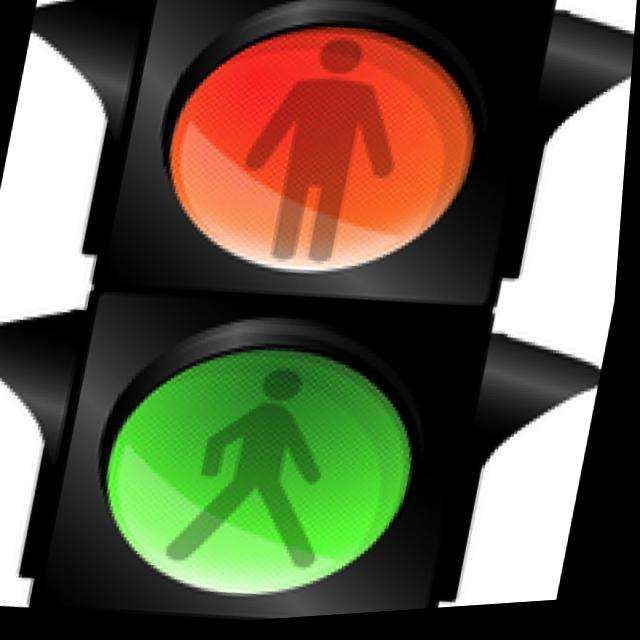green_light: (42, 289, 472, 626)
red_light: (111, 0, 518, 313)
